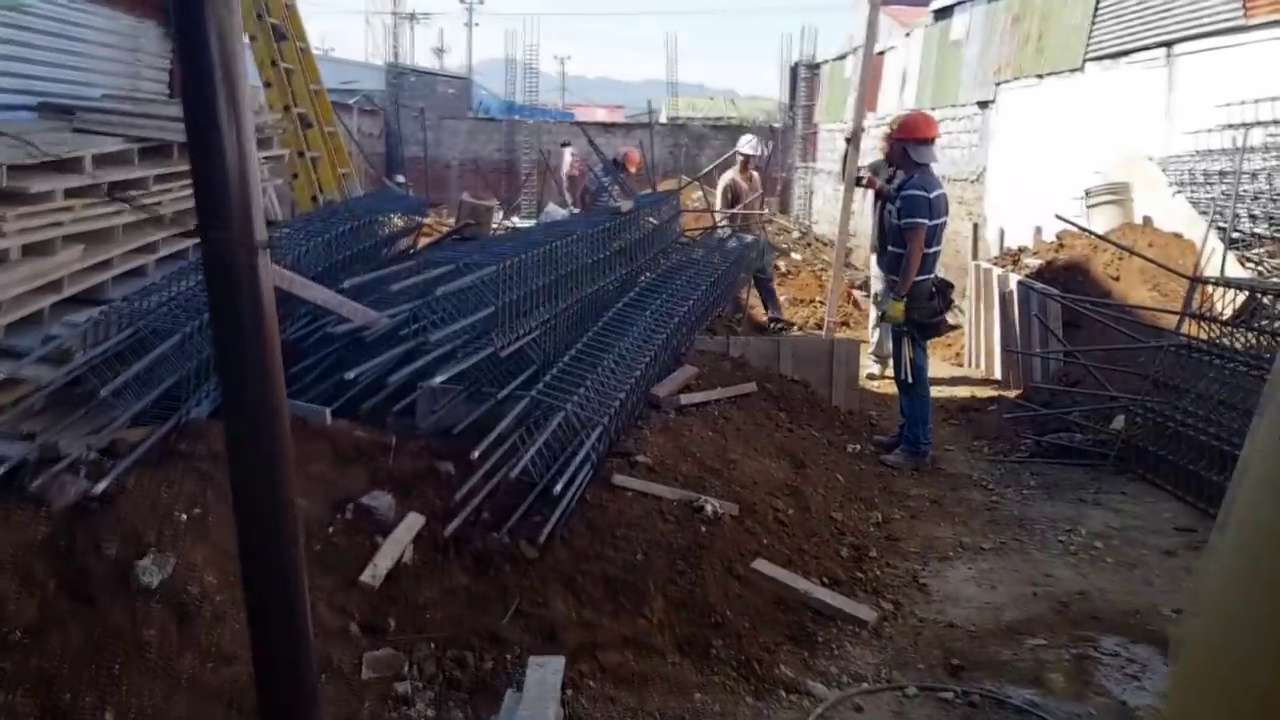helmet: (888, 109, 943, 143), (739, 136, 766, 159), (616, 143, 642, 165)
helmet-off: (557, 139, 574, 155)
helmet-on: (888, 110, 943, 172), (733, 132, 768, 179), (610, 141, 641, 179)
person: (862, 103, 961, 457), (719, 129, 784, 347), (595, 140, 643, 203), (557, 139, 587, 215)
